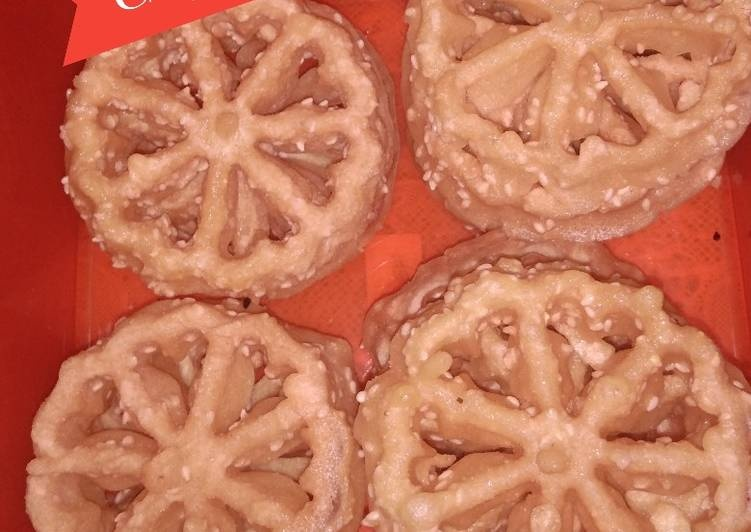kembang_goyang: (9, 289, 356, 532)
